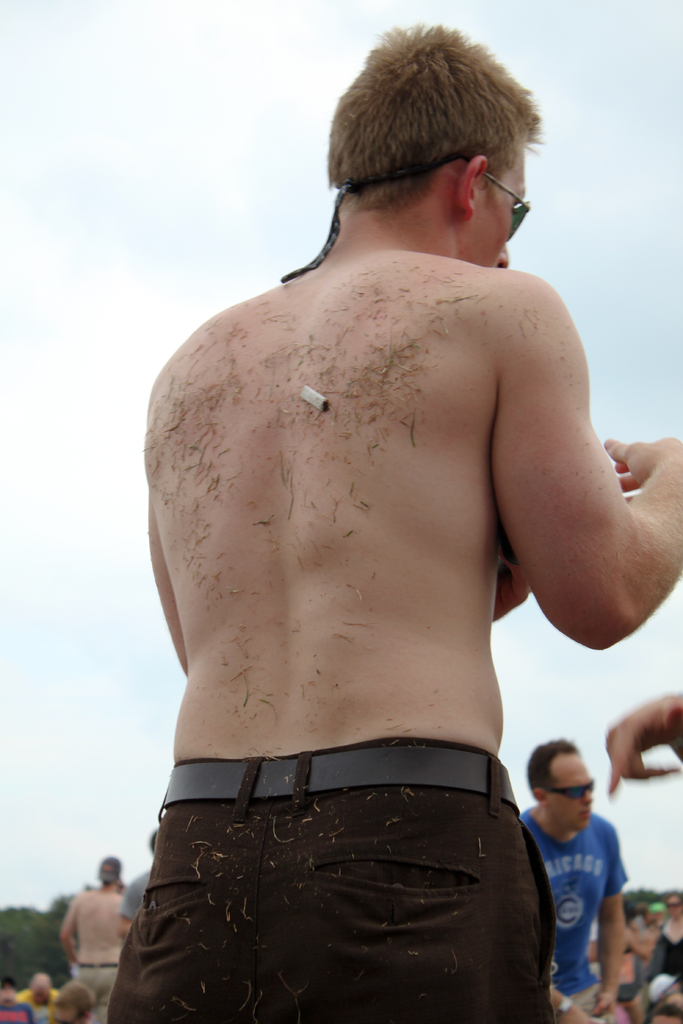face: (467, 123, 527, 287)
